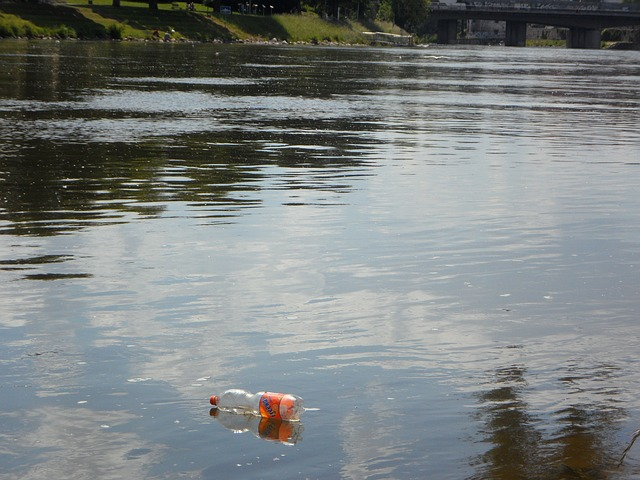plastic_bottle: (205, 384, 311, 426)
